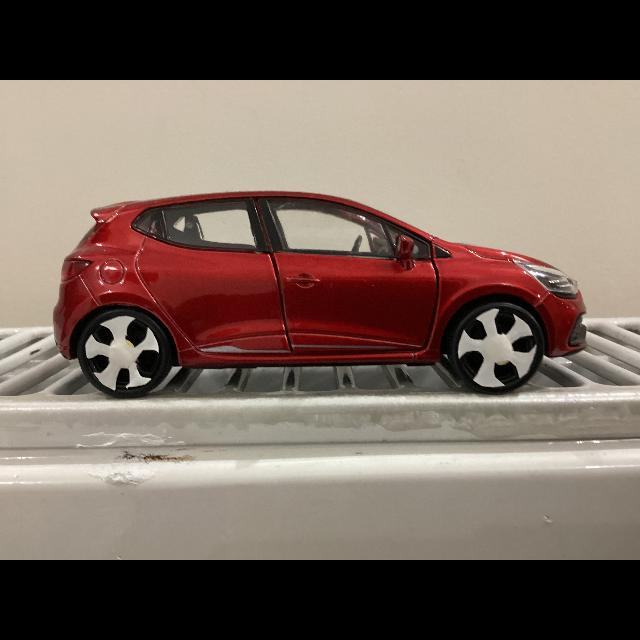Yanlis_Jant: (458, 308, 538, 389), (85, 316, 162, 392)
